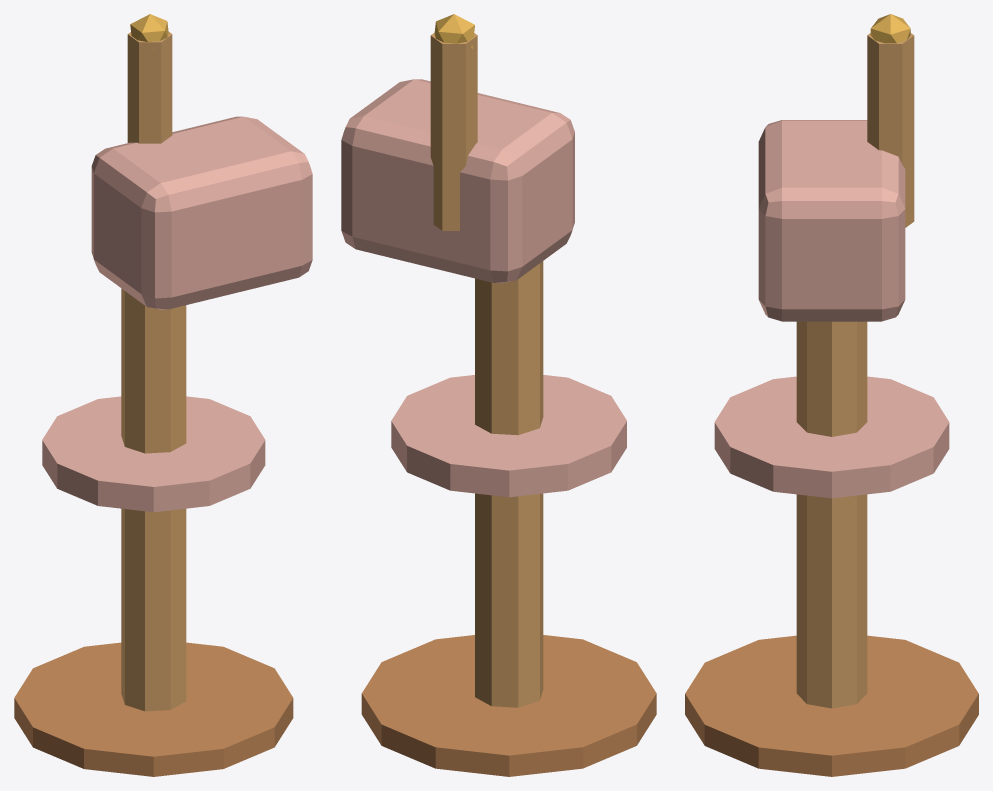
Rendered from cat_tree.glb.
3 views of the same model, side by side, from view 1: azimuth 30°, elevation 25°; view 2: azimuth 150°, elevation 25°; view 3: azimuth 270°, elevation 25° (orthographic). The views are drawn at different scales.
Visible parts, largest first — view 1: cat_tree; view 2: cat_tree; view 3: cat_tree.
Part boxes in pixels (x1,y1,x2,y2): cat_tree: [14, 14, 312, 776]; cat_tree: [341, 14, 656, 776]; cat_tree: [685, 14, 978, 776].
Size of the model in its own units: 0.525 by 1.34 by 0.5.
